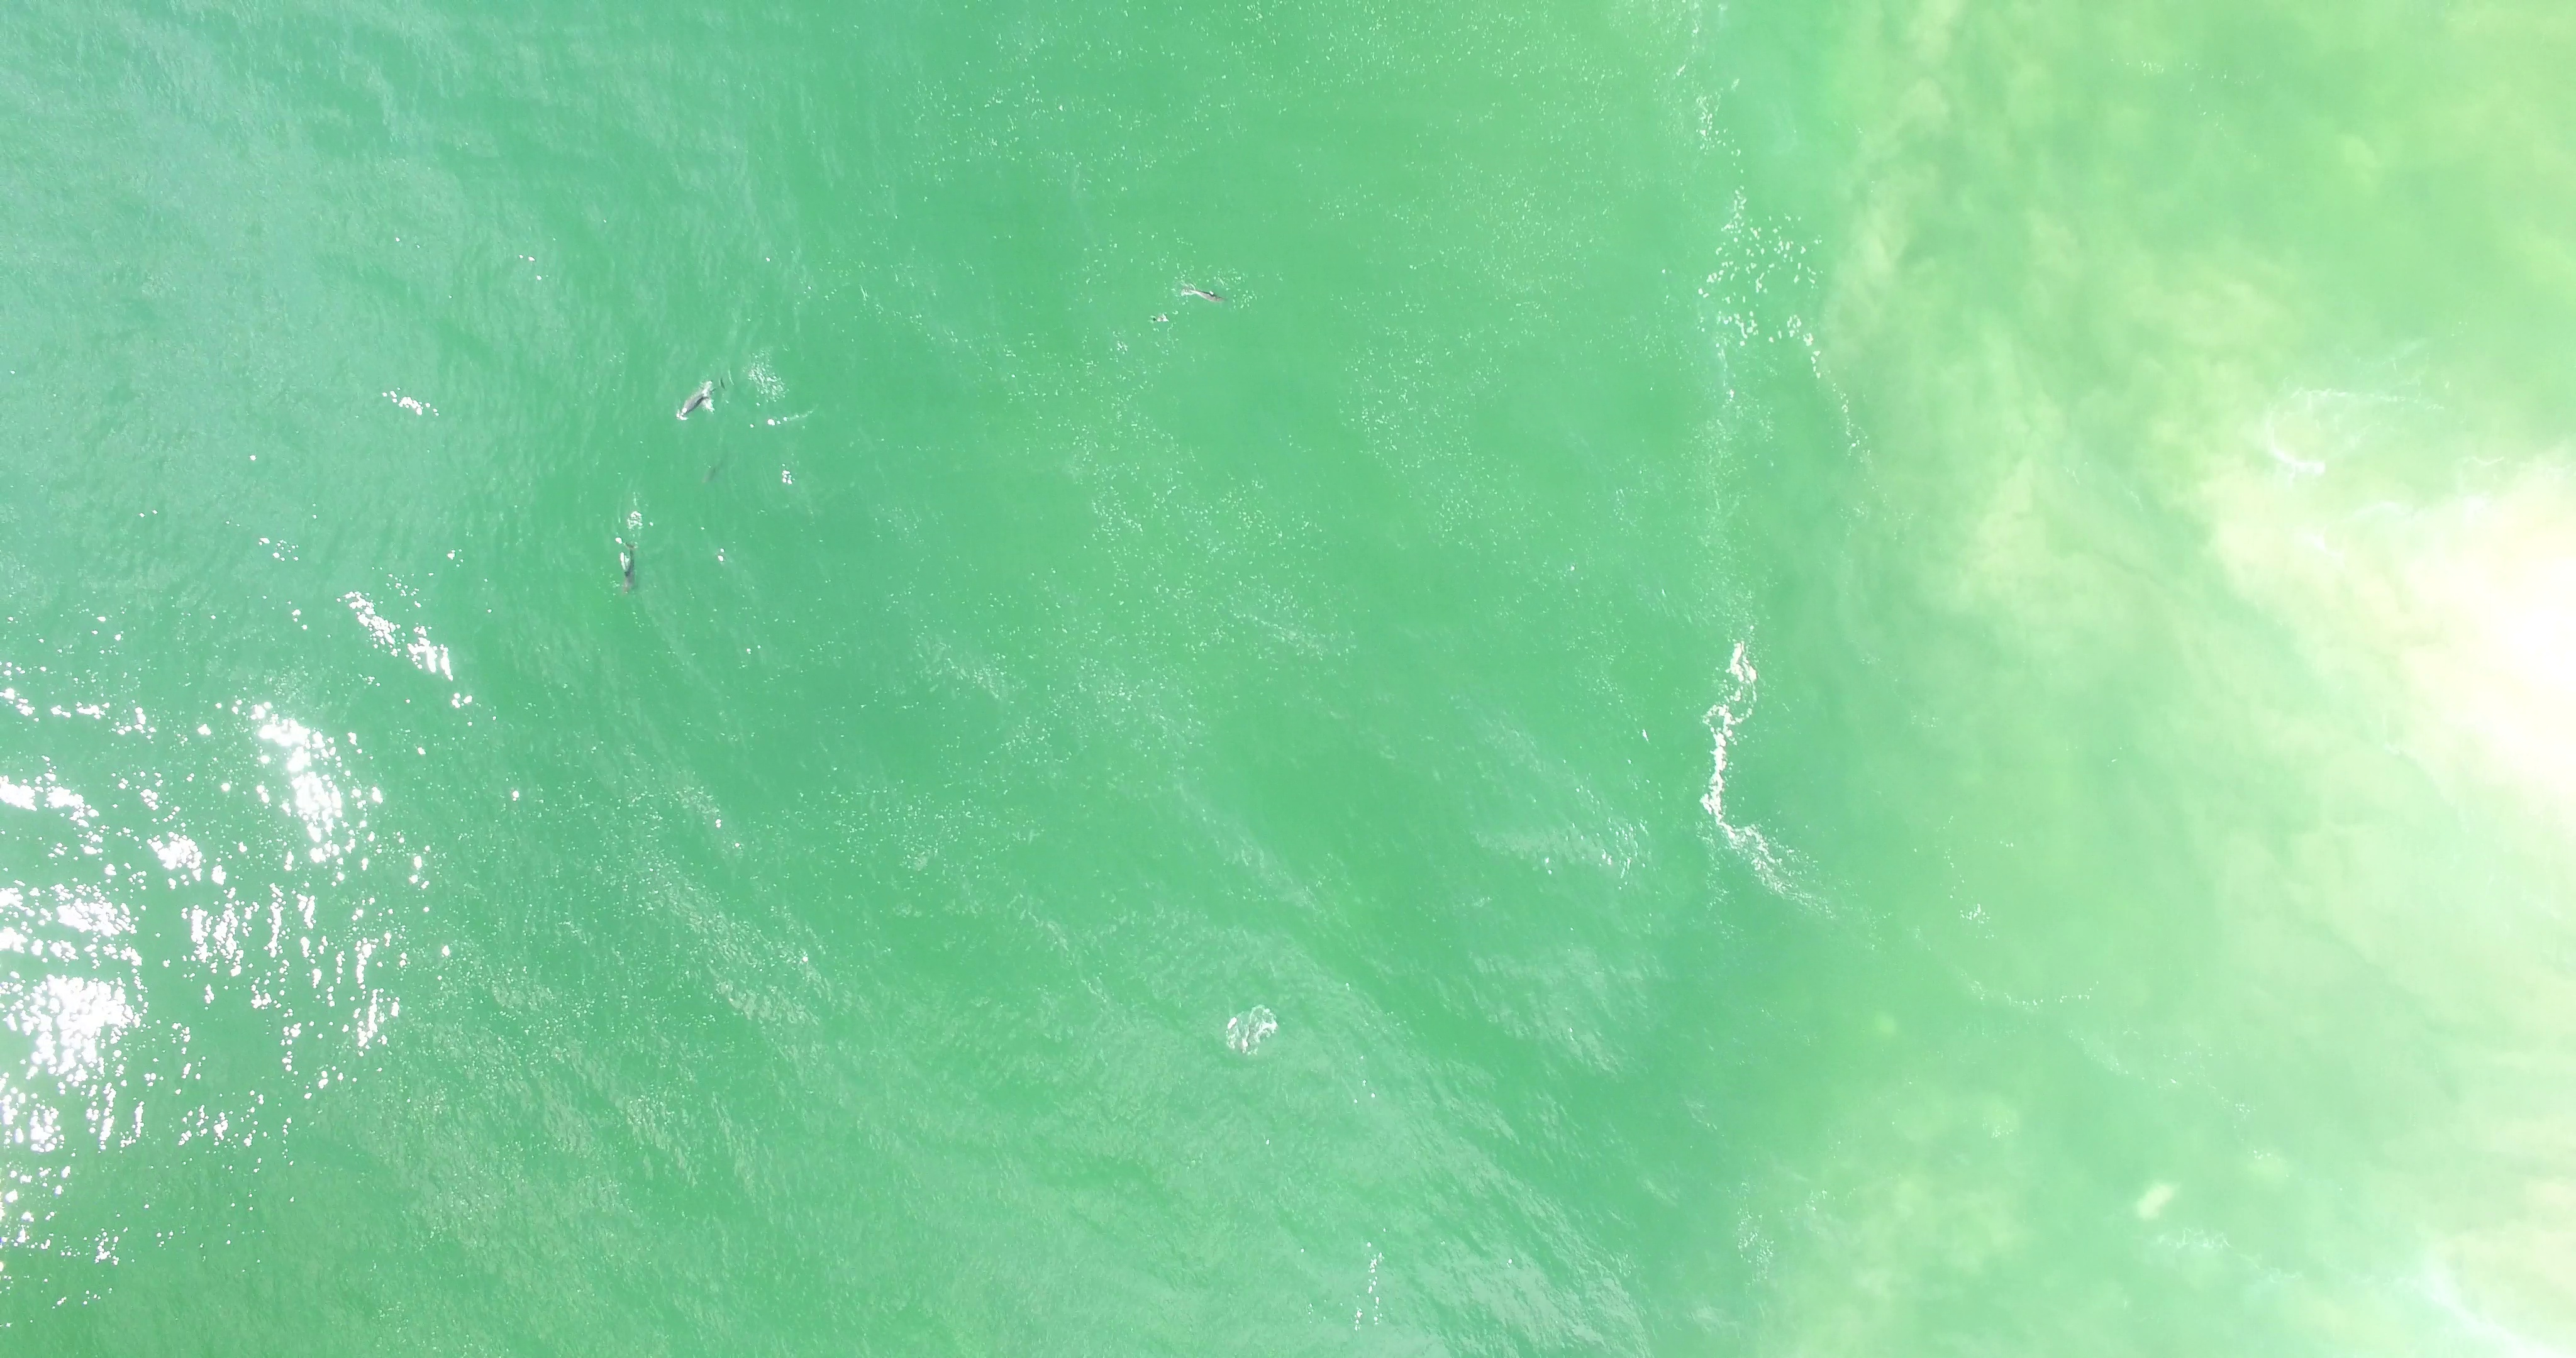dolphin: (676, 377, 726, 419), (613, 537, 644, 593), (1181, 281, 1232, 305), (705, 446, 734, 484)
